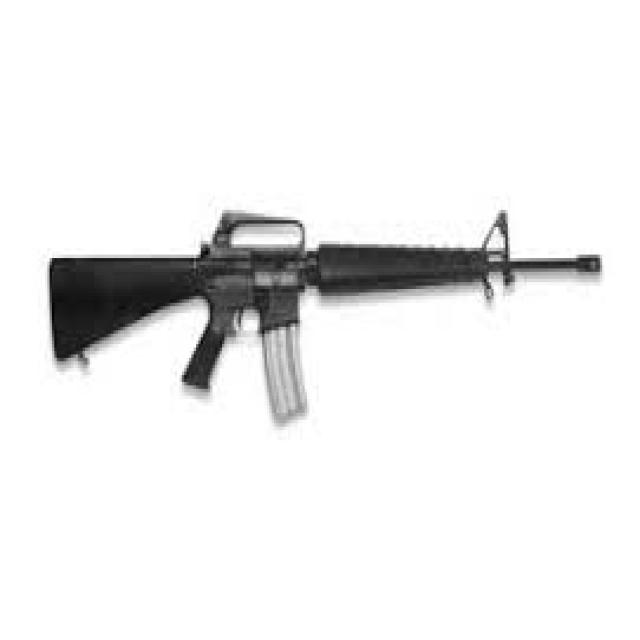rifle: (43, 203, 613, 421)
